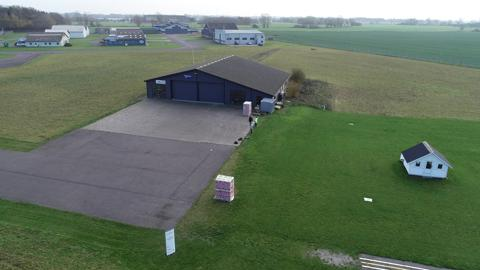RockwoolPallet: (243, 100, 252, 117)
